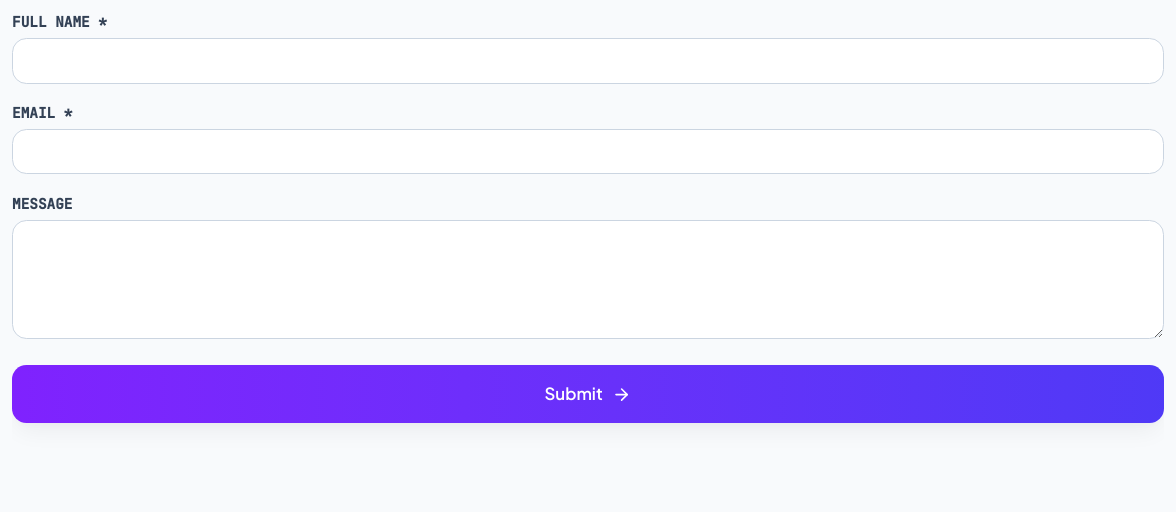
Test case: PublicForm › shows an honest failure state instead of a fabricated success when the API call fails
The width and height of the screenshot is (1176, 512).
In the field labelled "Full name *": (588, 61) [12,38,1164,84], type "Jane"
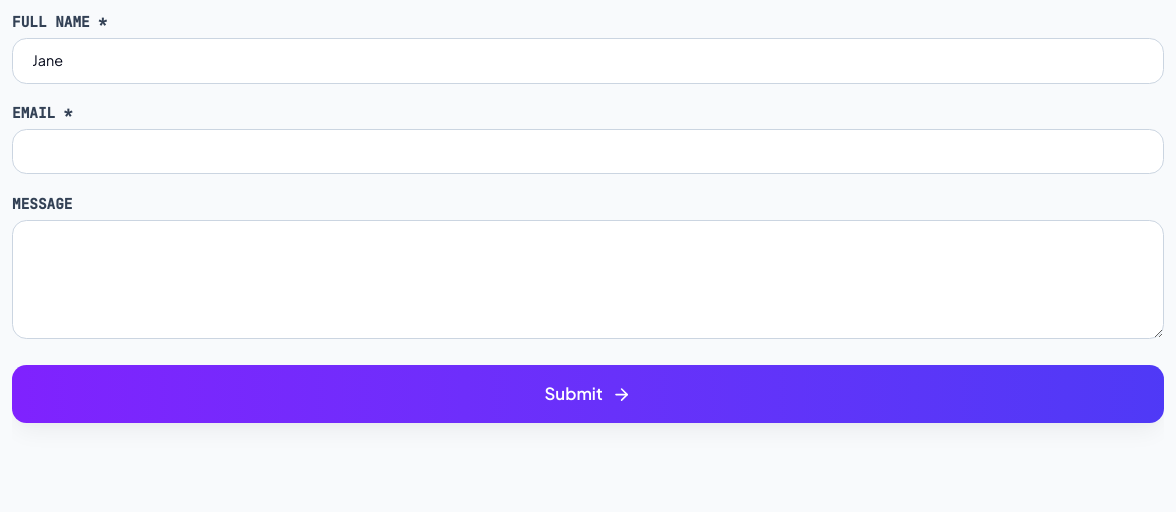
In the field labelled "Email *": (588, 152) [12,129,1164,174], type "jane@example.com"
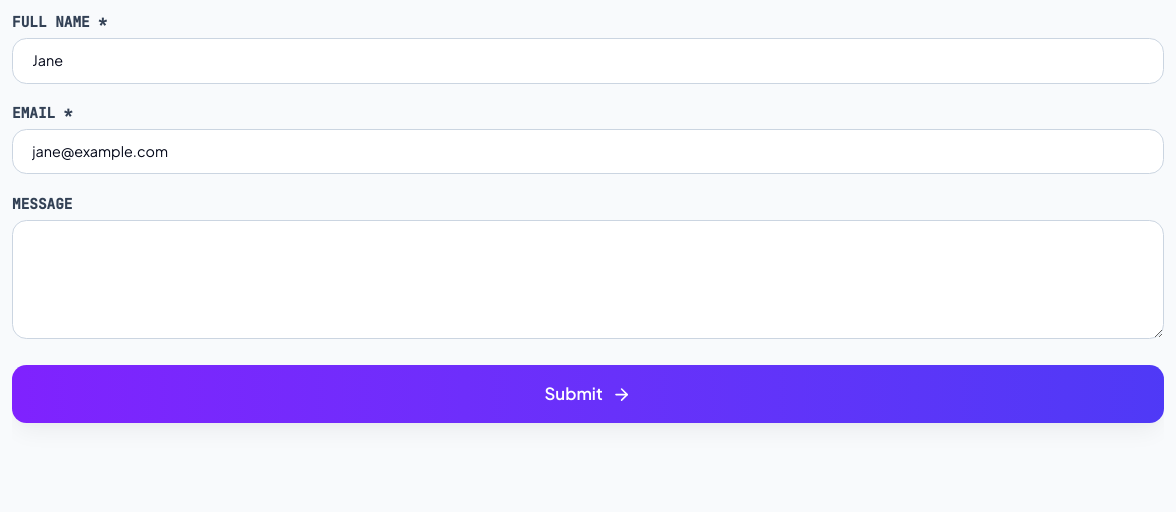
Click the button "Submit": (588, 394) [12,365,1164,423]
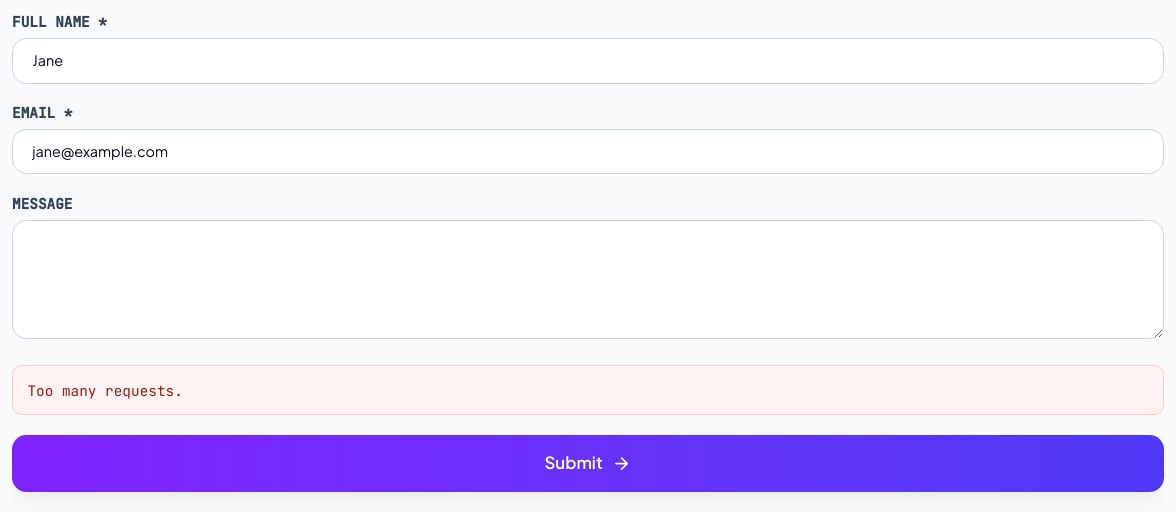
expect the text "Too many requests." is shown: met, box [12,365,1164,415]
